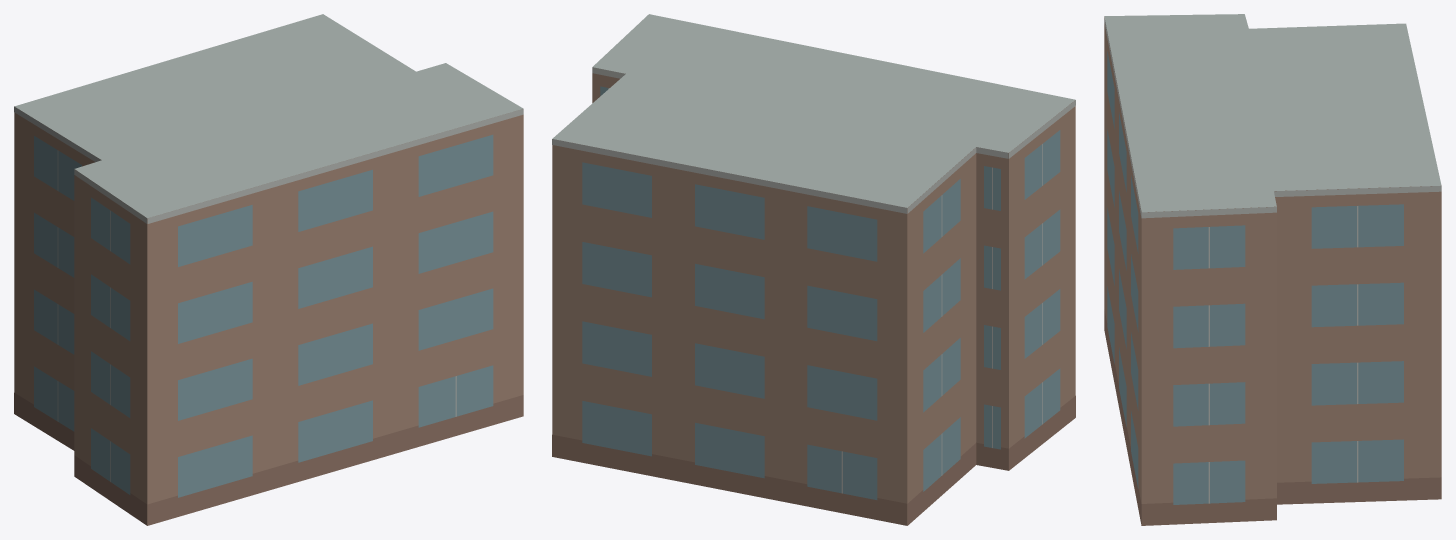
The model's file is survey-upis-32742326.glb.
3 renders of one model, left to right at view 1: azimuth 30°, elevation 25°; view 2: azimuth 150°, elevation 25°; view 3: azimuth 270°, elevation 25°, orthographic. The views are drawn at different scales.
Visible parts, largest first — view 1: survey-upis-32742326.tmp; view 2: survey-upis-32742326.tmp; view 3: survey-upis-32742326.tmp.
Boxes of the visible parts, left/top/right/bottom form: survey-upis-32742326.tmp: left=14, top=14, right=523, bottom=525; survey-upis-32742326.tmp: left=552, top=14, right=1075, bottom=525; survey-upis-32742326.tmp: left=1104, top=14, right=1441, bottom=525.
Size of the model in its own units: 17.38 by 12.8 by 12.49.
